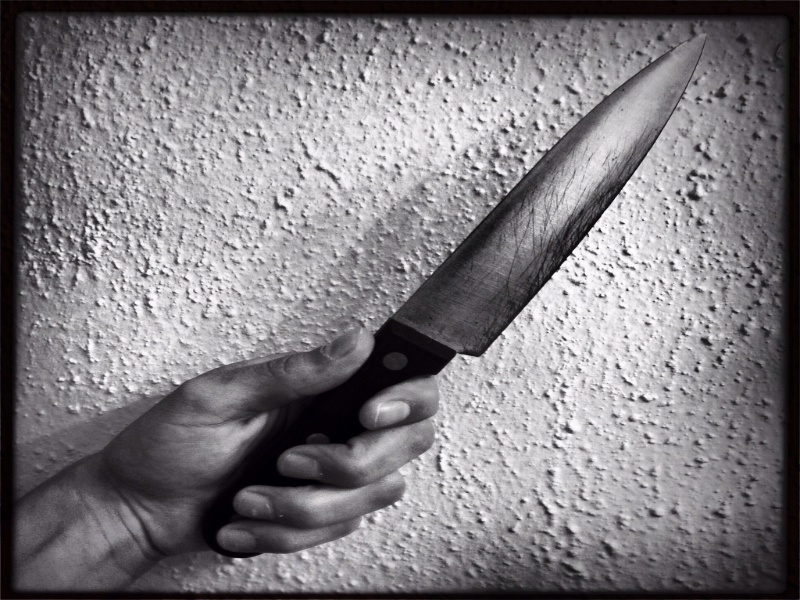knife: (197, 30, 709, 561)
